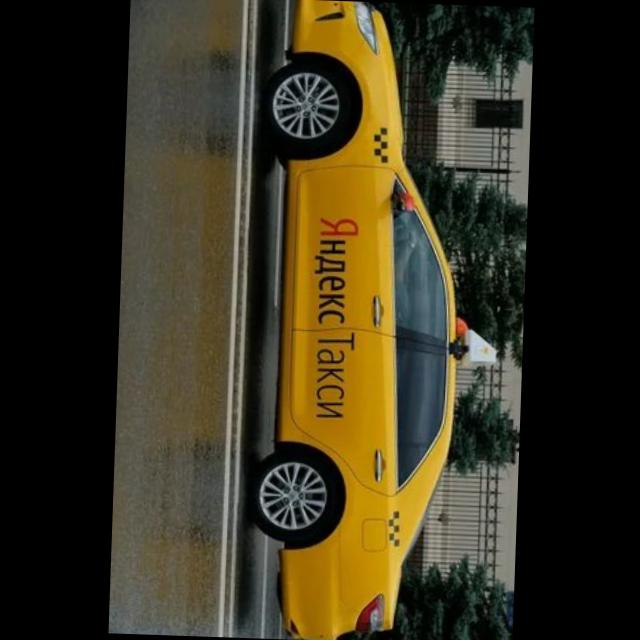taxi: (242, 1, 509, 640)
